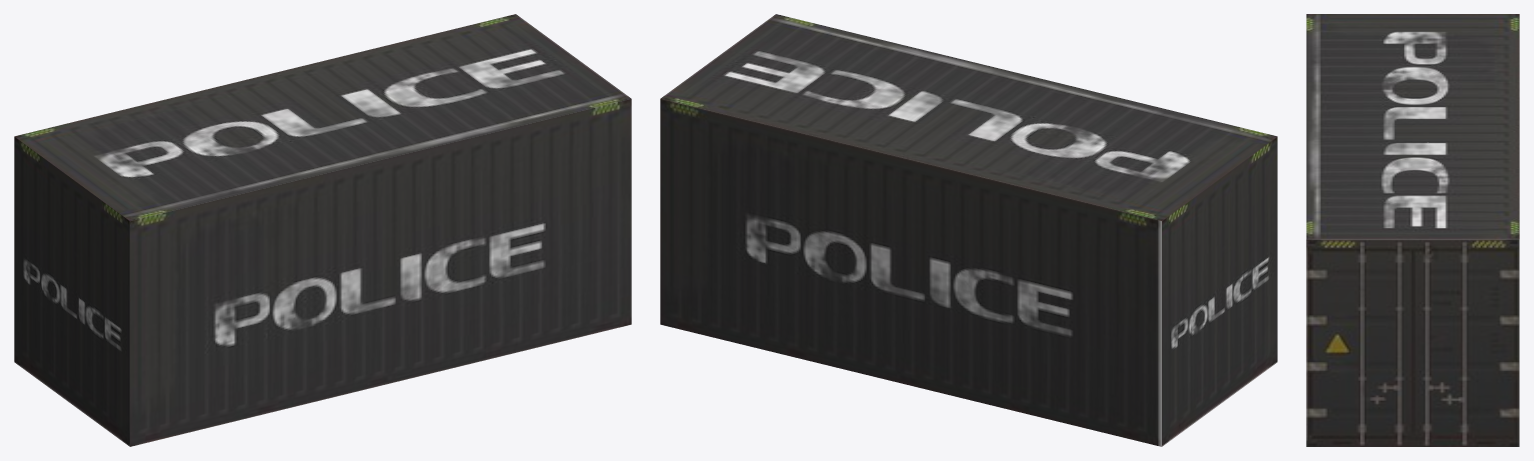
File: container-05.glb
The picture shows the model from 3 angles, left to right: view 1: azimuth 30°, elevation 25°; view 2: azimuth 150°, elevation 25°; view 3: azimuth 270°, elevation 25°; orthographic projection. The views are drawn at different scales.
Visible parts, largest first — view 1: container-05; view 2: container-05; view 3: container-05.
Part boxes in pixels (<box>): container-05: <box>14,14,631,446</box>; container-05: <box>660,14,1277,446</box>; container-05: <box>1306,14,1519,446</box>.
Size of the model in its own units: 6.1 by 2.62 by 2.44.
Materials: 1 (1 with a texture image).
